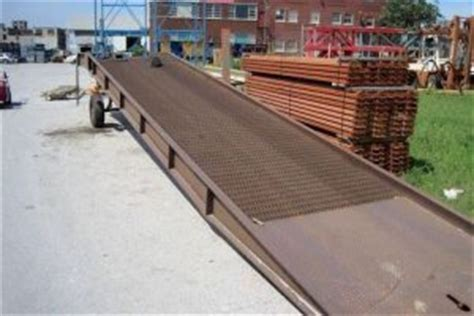Yard Ramp: (76, 50, 474, 315)
